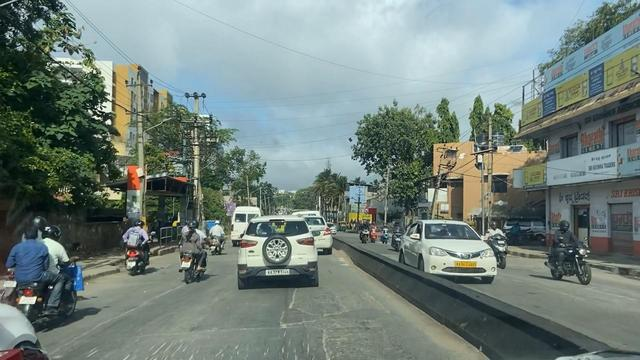LMV: (13, 230, 81, 318), (238, 220, 317, 283), (178, 221, 208, 280), (124, 221, 144, 271)
RoadDamages: (71, 283, 185, 337), (277, 285, 354, 360), (141, 322, 275, 337)
UnsurfacedRoad: (61, 341, 273, 359)
